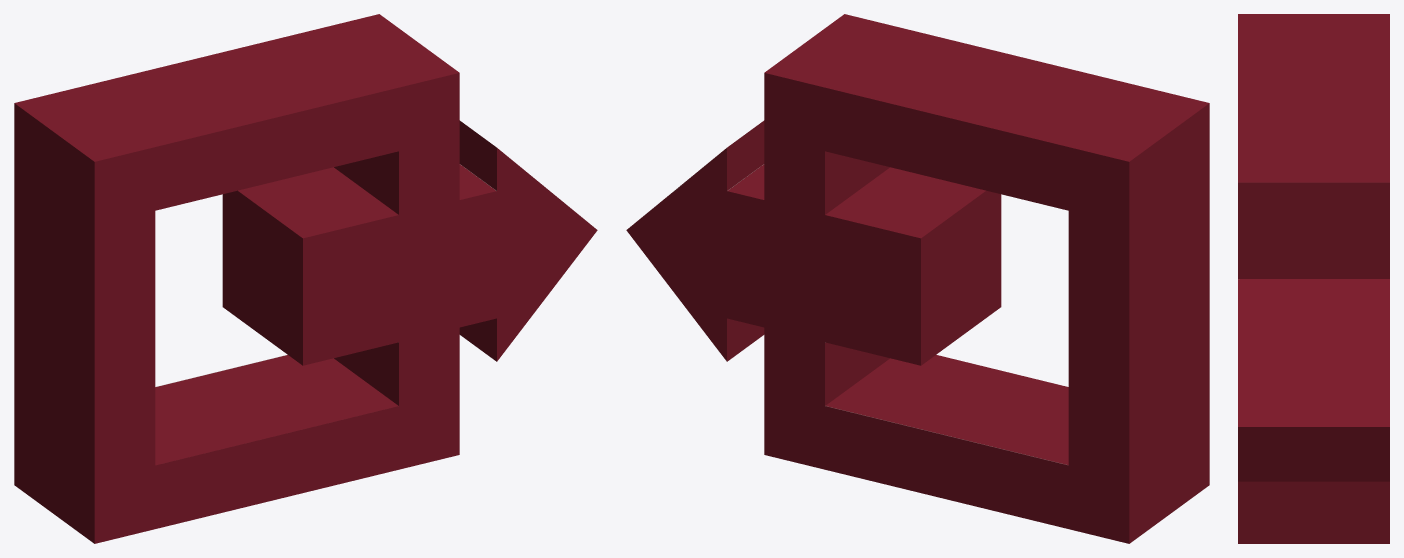
File: Exit_Button_UV 1.fbx
3 renders of one model, left to right at view 1: azimuth 30°, elevation 25°; view 2: azimuth 150°, elevation 25°; view 3: azimuth 270°, elevation 25°, orthographic. The views are drawn at different scales.
Visible parts, largest first — view 1: Exit_Button; view 2: Exit_Button; view 3: Exit_Button.
Boxes of the visible parts, box(x1,y1,x2,y2) form: Exit_Button: box(14, 14, 597, 543); Exit_Button: box(626, 14, 1209, 543); Exit_Button: box(1238, 14, 1389, 543).
Bounding box in the file's own units: 39.19 × 28.44 × 10.84.
